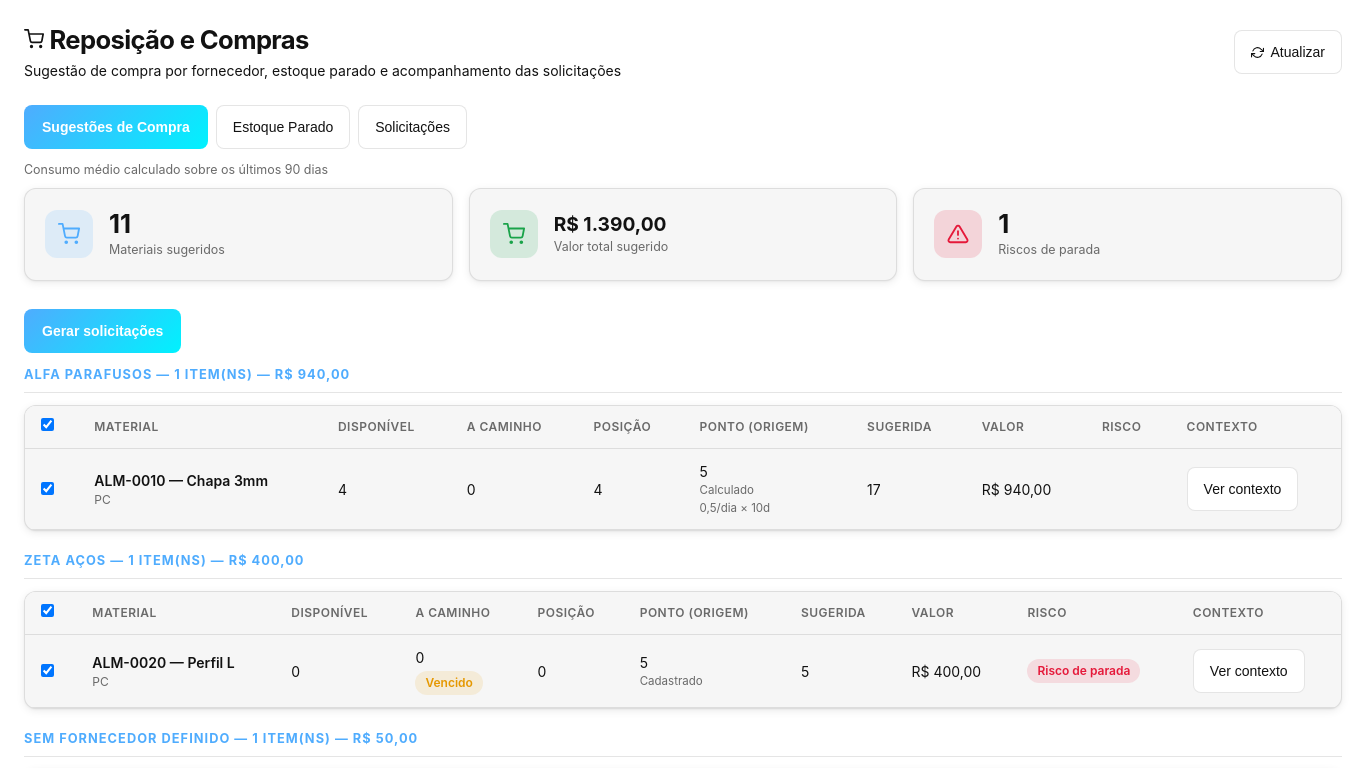
Test: ReposicaoAlmoxarifado — aba Estoque Parado › aba Estoque Parado renderiza os 3 badges e as datas nas colunas certas
The width and height of the screenshot is (1366, 768).
Click the button "Estoque Parado": (283, 127) [216,105,350,149]
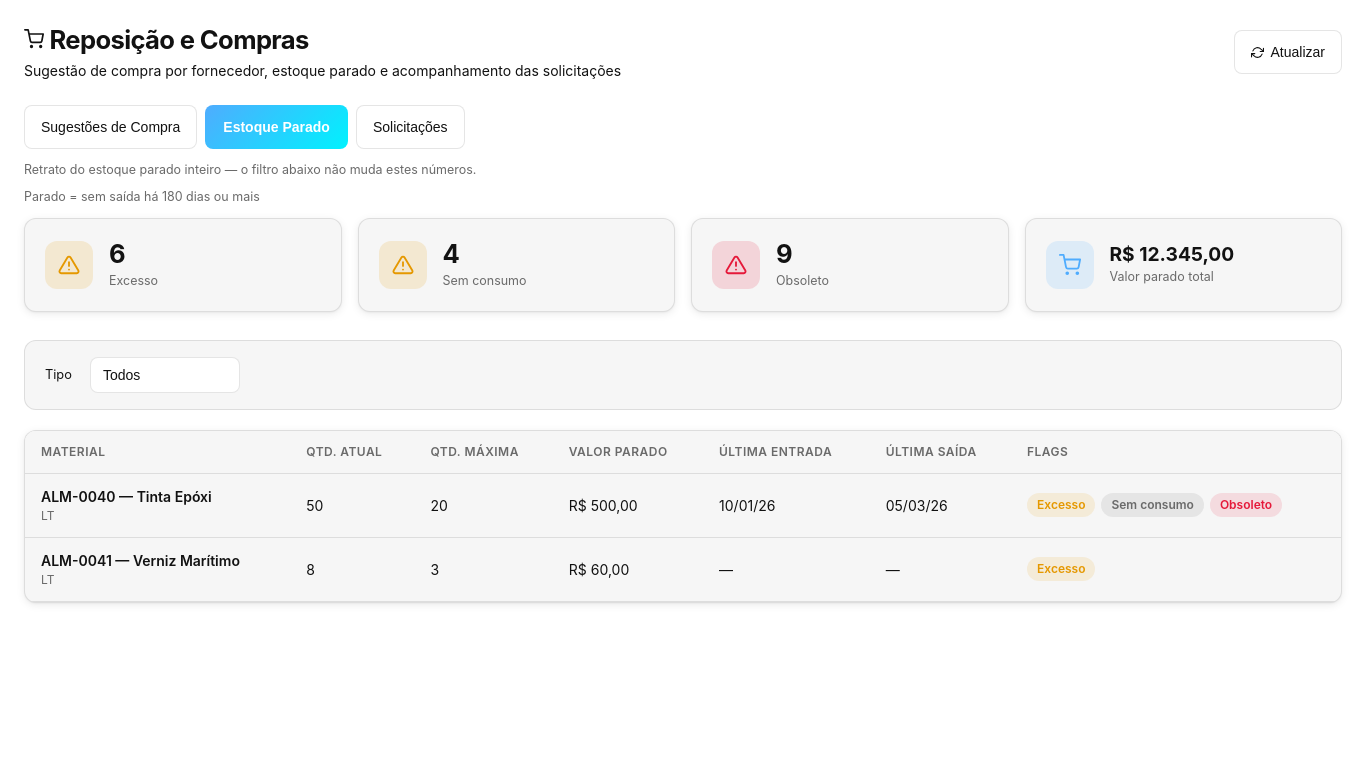
Check: the row that starts with "ALM-0040" is shown, box [25,473,1341,537]
Check: the row that starts with "ALM-0040" shows "Excesso", box [1037,497,1085,512]
Check: the row that starts with "ALM-0040" shows "Sem consumo", box [1112,497,1194,512]
